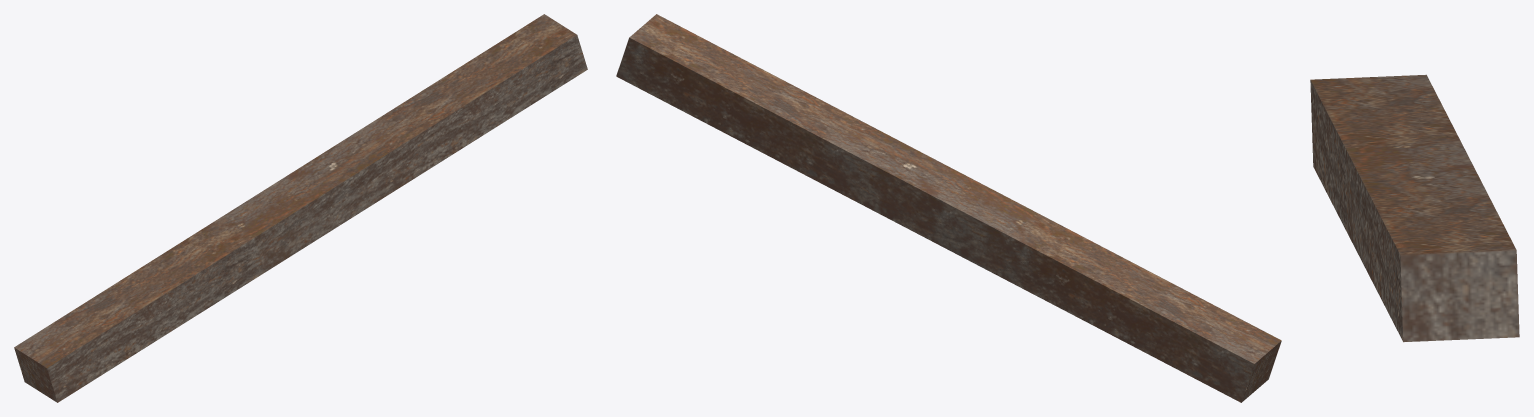
Rendered from BoxWoodB_S.glb.
The picture shows the model from 3 angles, left to right: view 1: azimuth 30°, elevation 25°; view 2: azimuth 150°, elevation 25°; view 3: azimuth 270°, elevation 25°; orthographic projection. The views are drawn at different scales.
Visible parts, largest first — view 1: BoxWoodB_S; view 2: BoxWoodB_S; view 3: BoxWoodB_S.
Part boxes in pixels (x1=…): BoxWoodB_S: x1=14, y1=14, x2=587, y2=402; BoxWoodB_S: x1=616, y1=14, x2=1281, y2=402; BoxWoodB_S: x1=1310, y1=74, x2=1519, y2=342.
Size of the model in its own units: 1.27 by 0.4722 by 0.2029.
1 material, 1 textured.
